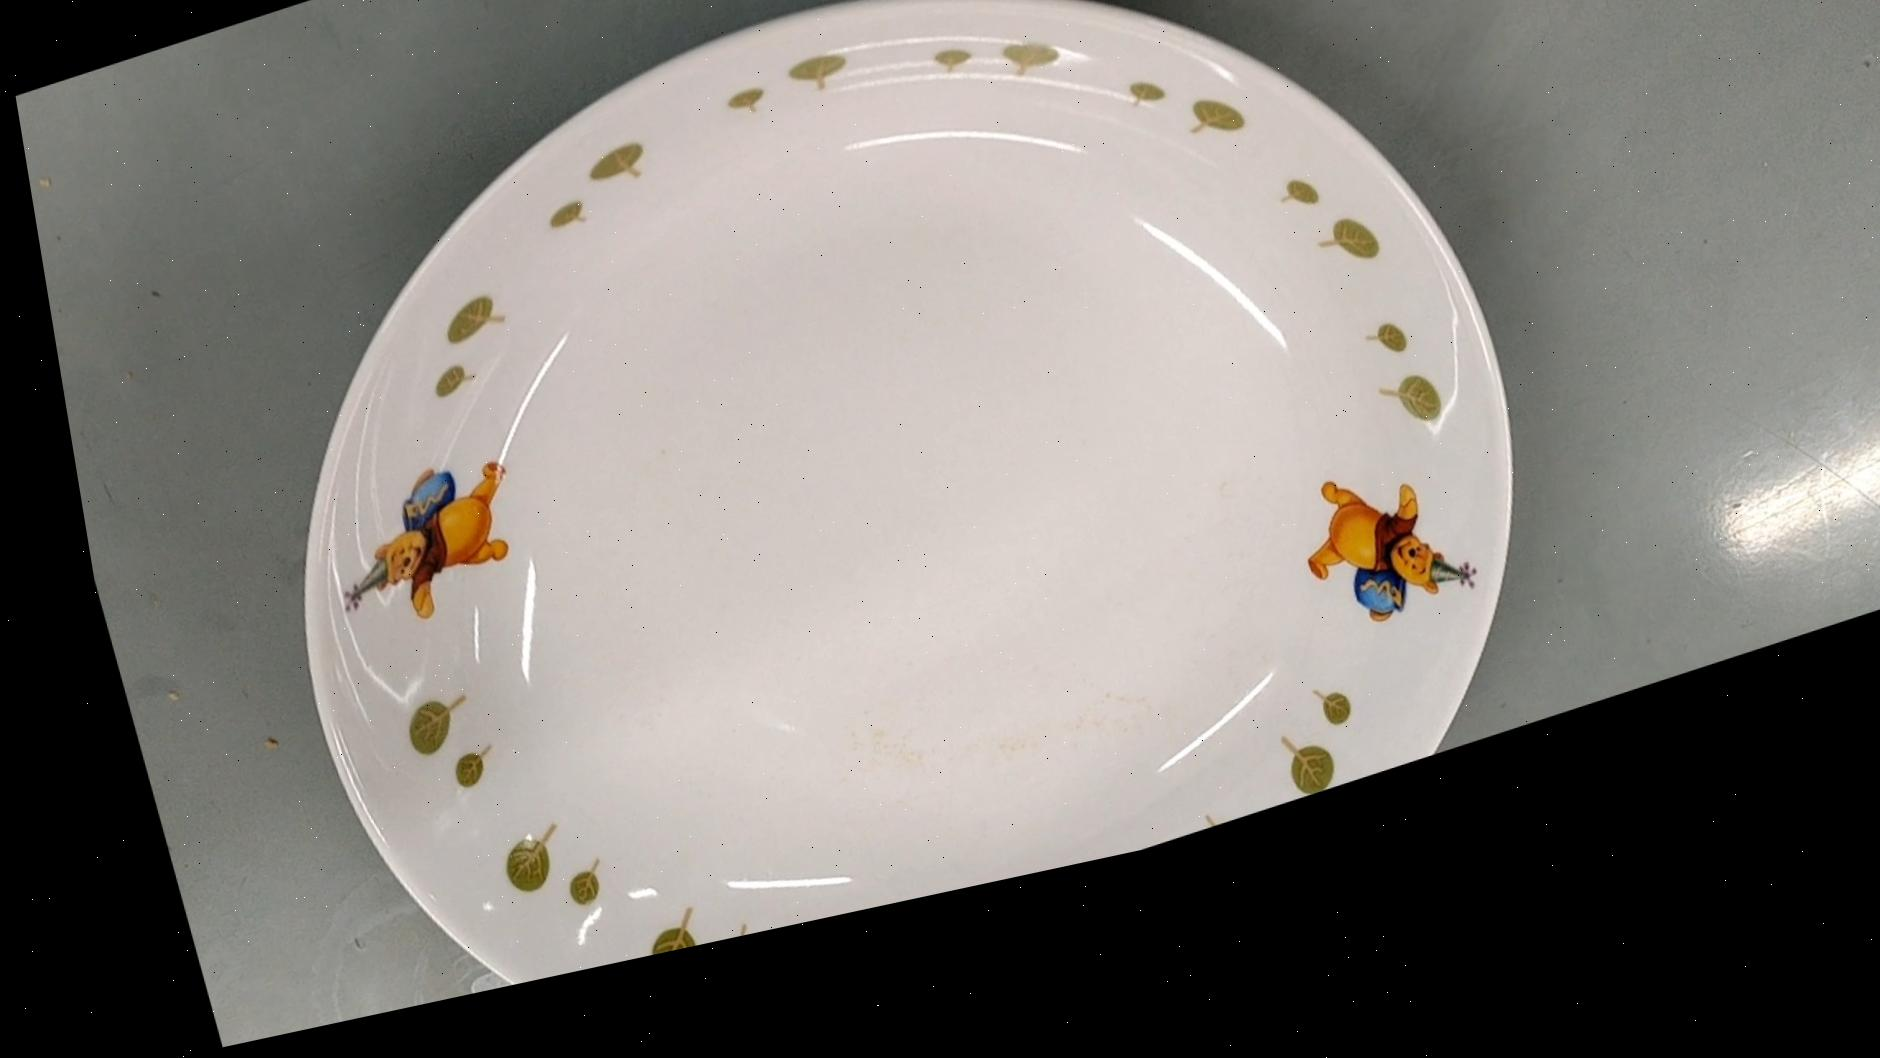plate: (152, 0, 1564, 1035)
